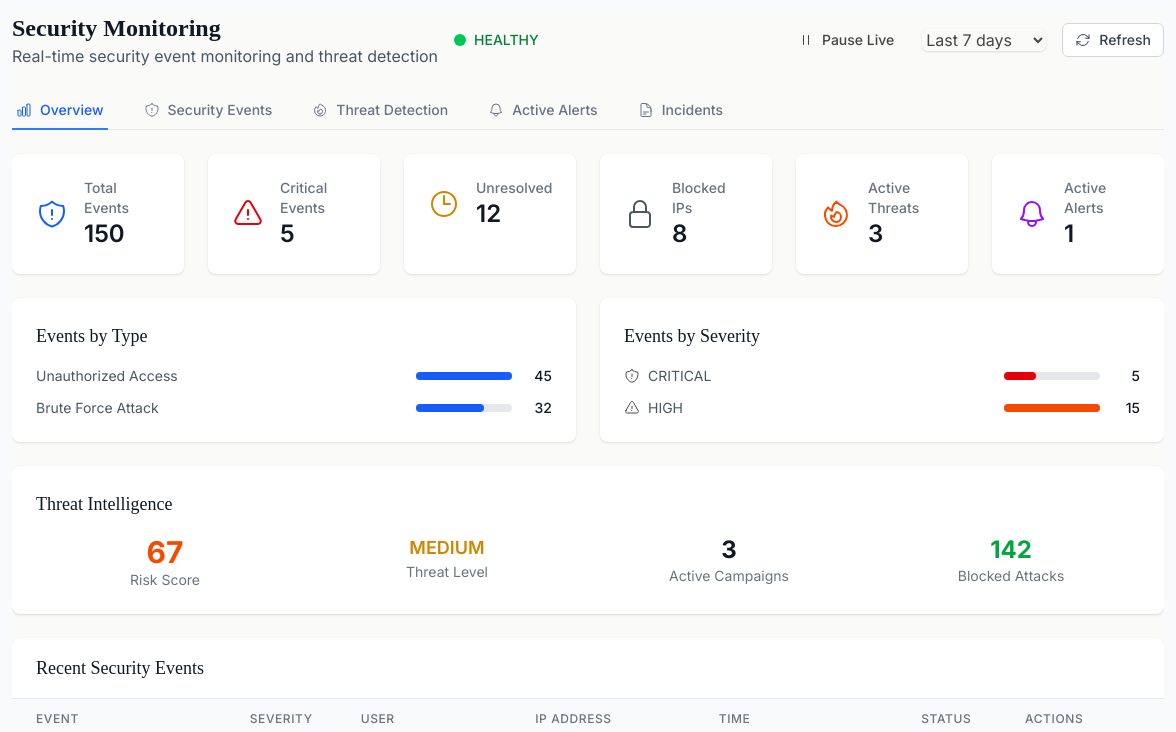
SecurityMonitoringDashboard › handles real-time toggle
The width and height of the screenshot is (1176, 732).
Expected: the text "Pause Live" is shown, [822,30,894,50]
Click the button "Pause Live" at (846,40), box [786,24,906,56]
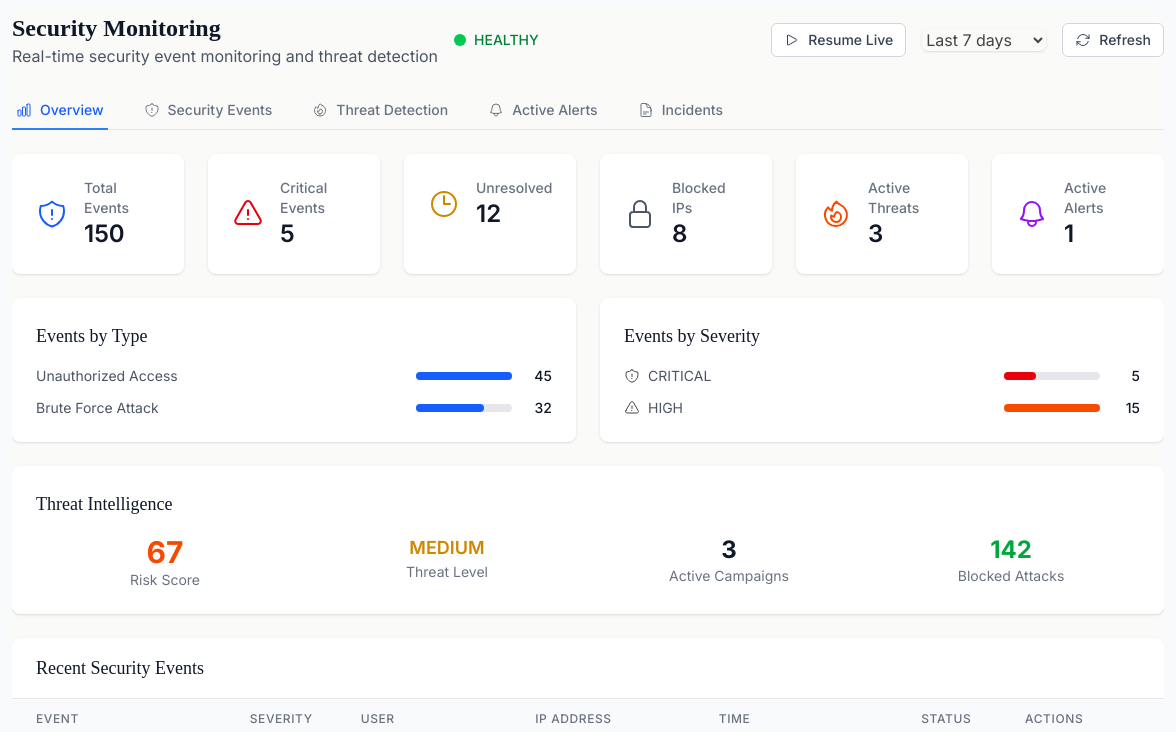
Now the text "Resume Live" is shown, box [808,30,893,50]
